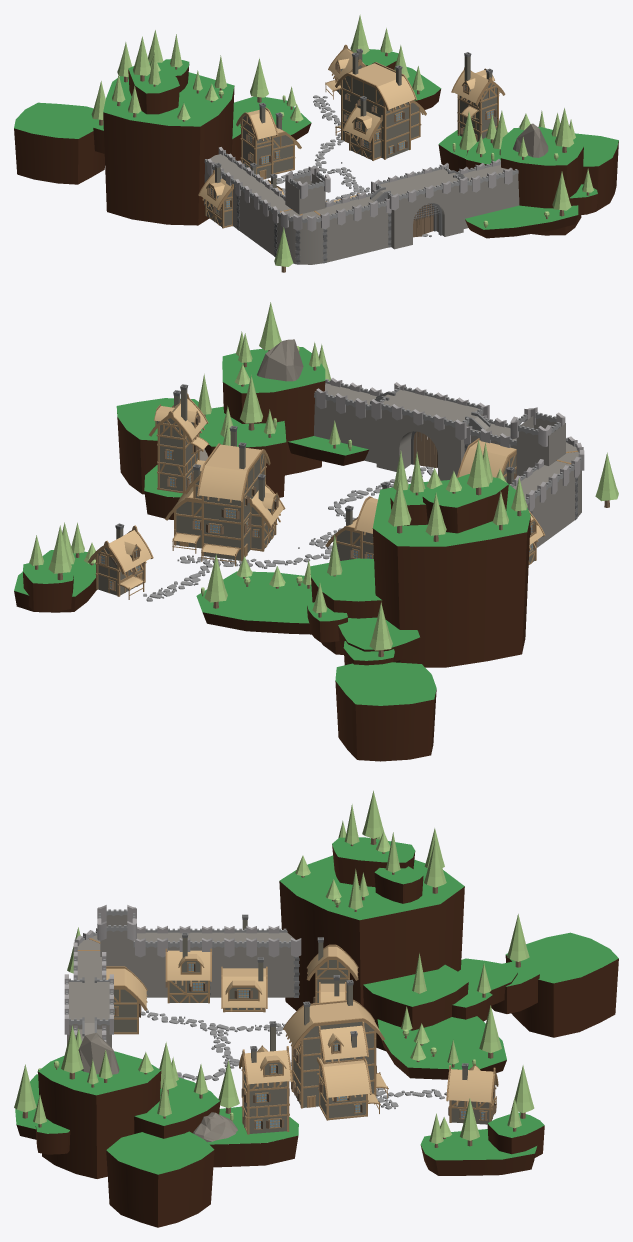
3 renders of one model, top to bottom at view 1: azimuth 30°, elevation 25°; view 2: azimuth 150°, elevation 25°; view 3: azimuth 270°, elevation 25°, orthographic. The views are drawn at different scales.
Visible parts, largest first — view 1: group413_pCube3685_Mura_03_TileMat_0.033, group413_pCube3685_Mura_03_TileMat_0.034, group413_pCube3685_Mura_03_TileMat_0.014, group413_pCube3685_Mura_03_TileMat_0.013, group413_pCube3685_Mura_03_TileMat_0.001, group413_pCube3685_Mura_03_TileMat_0.005, group413_pCube3685_Mura_03_TileMat_0.007, group413_pCube3685_Mura_03_TileMat_0.016, group413_pCube3685_Mura_03_TileMat_0.015, group413_pCube3685_Mura_03_TileMat_0.017, group413_pCube3685_Mura_03_TileMat_0.006, group413_pCube3685_Mura_03_TileMat_0.002 (+5 smaller); view 2: group413_pCube3685_Mura_03_TileMat_0.033, group413_pCube3685_Mura_03_TileMat_0.034, group413_pCube3685_Mura_03_TileMat_0.013, group413_pCube3685_Mura_03_TileMat_0.014, group413_pCube3685_Mura_03_TileMat_0.001, group413_pCube3685_Mura_03_TileMat_0.005, group413_pCube3685_Mura_03_TileMat_0.007, group413_pCube3685_Mura_03_TileMat_0.016, group413_pCube3685_Mura_03_TileMat_0.015, group413_pCube3685_Mura_03_TileMat_0.002, group413_pCube3685_Mura_03_TileMat_0.006, group413_pCube3685_Mura_03_TileMat_0.017 (+2 smaller); view 3: group413_pCube3685_Mura_03_TileMat_0.033, group413_pCube3685_Mura_03_TileMat_0.034, group413_pCube3685_Mura_03_TileMat_0.013, group413_pCube3685_Mura_03_TileMat_0.007, group413_pCube3685_Mura_03_TileMat_0.001, group413_pCube3685_Mura_03_TileMat_0.005, group413_pCube3685_Mura_03_TileMat_0.014, group413_pCube3685_Mura_03_TileMat_0.015, group413_pCube3685_Mura_03_TileMat_0.016, group413_pCube3685_Mura_03_TileMat_0.002, group413_pCube3685_Mura_03_TileMat_0.028, group413_pCube3685_Mura_03_TileMat_0.006 (+3 smaller).
Part boxes in pixels (x1,y1,x2,y2): group413_pCube3685_Mura_03_TileMat_0.033: [14, 61, 618, 238]; group413_pCube3685_Mura_03_TileMat_0.034: [14, 49, 618, 229]; group413_pCube3685_Mura_03_TileMat_0.014: [204, 163, 519, 264]; group413_pCube3685_Mura_03_TileMat_0.013: [91, 14, 593, 266]; group413_pCube3685_Mura_03_TileMat_0.001: [206, 52, 496, 226]; group413_pCube3685_Mura_03_TileMat_0.005: [198, 44, 505, 228]; group413_pCube3685_Mura_03_TileMat_0.007: [200, 48, 501, 207]; group413_pCube3685_Mura_03_TileMat_0.016: [207, 147, 512, 231]; group413_pCube3685_Mura_03_TileMat_0.015: [210, 154, 507, 218]; group413_pCube3685_Mura_03_TileMat_0.017: [204, 152, 518, 223]; group413_pCube3685_Mura_03_TileMat_0.006: [99, 52, 589, 272]; group413_pCube3685_Mura_03_TileMat_0.002: [264, 95, 431, 237]; group413_pCube3685_Mura_03_TileMat_0.033: [14, 381, 530, 761]; group413_pCube3685_Mura_03_TileMat_0.034: [14, 347, 530, 705]; group413_pCube3685_Mura_03_TileMat_0.013: [29, 302, 618, 650]; group413_pCube3685_Mura_03_TileMat_0.014: [314, 397, 581, 547]; group413_pCube3685_Mura_03_TileMat_0.001: [98, 389, 535, 595]; group413_pCube3685_Mura_03_TileMat_0.005: [88, 393, 577, 599]; group413_pCube3685_Mura_03_TileMat_0.007: [92, 399, 543, 589]; group413_pCube3685_Mura_03_TileMat_0.016: [316, 378, 584, 510]; group413_pCube3685_Mura_03_TileMat_0.015: [325, 383, 579, 498]; group413_pCube3685_Mura_03_TileMat_0.002: [143, 466, 433, 601]; group413_pCube3685_Mura_03_TileMat_0.006: [35, 350, 609, 657]; group413_pCube3685_Mura_03_TileMat_0.017: [314, 379, 582, 503]; group413_pCube3685_Mura_03_TileMat_0.033: [16, 844, 618, 1227]; group413_pCube3685_Mura_03_TileMat_0.034: [15, 837, 618, 1174]; group413_pCube3685_Mura_03_TileMat_0.013: [14, 790, 534, 1143]; group413_pCube3685_Mura_03_TileMat_0.007: [106, 946, 496, 1102]; group413_pCube3685_Mura_03_TileMat_0.001: [114, 920, 493, 1133]; group413_pCube3685_Mura_03_TileMat_0.005: [77, 938, 498, 1134]; group413_pCube3685_Mura_03_TileMat_0.014: [67, 915, 294, 1047]; group413_pCube3685_Mura_03_TileMat_0.015: [68, 932, 295, 1041]; group413_pCube3685_Mura_03_TileMat_0.016: [64, 905, 301, 1041]; group413_pCube3685_Mura_03_TileMat_0.002: [141, 1010, 446, 1109]; group413_pCube3685_Mura_03_TileMat_0.028: [78, 1032, 237, 1144]; group413_pCube3685_Mura_03_TileMat_0.006: [22, 838, 525, 1147].
Size of what is drawn, in the model's own units: 123 by 51.28 by 125.
